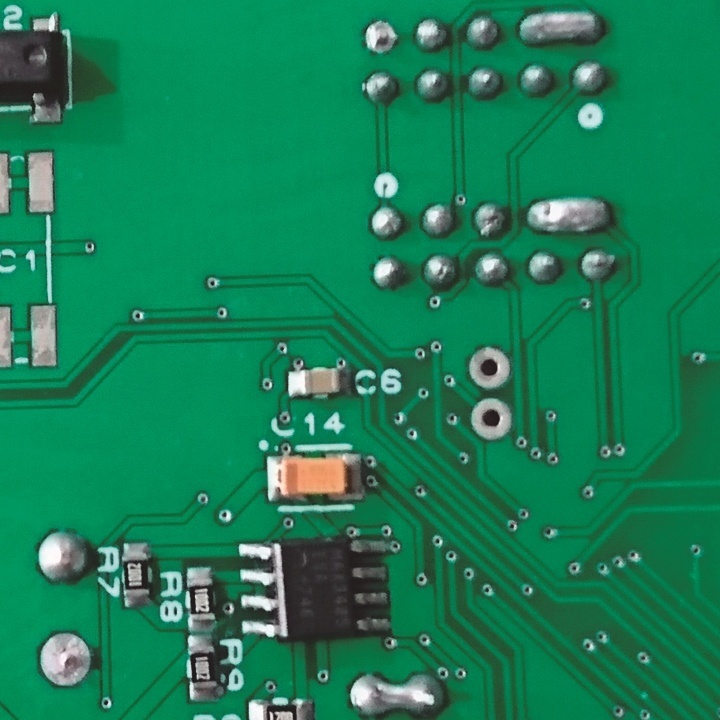F: (36, 629, 99, 689), (466, 344, 514, 392), (468, 396, 513, 446), (359, 19, 399, 57)
P: (341, 669, 448, 720), (523, 194, 616, 238), (515, 9, 606, 50)
